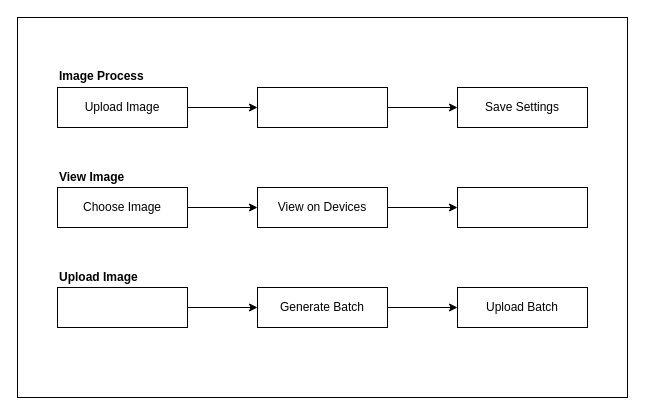
The diagram is 645 pixels wide and 415 high, and some of its shapes have lost their labels. The shapes that lost their labels are listed below. From the top down, each one's centre as x and y in pixels, then its label:
At point (322, 107): "Adjust Image".
At point (522, 207): "Generate CSS code".
At point (122, 307): "Choose Setting".
